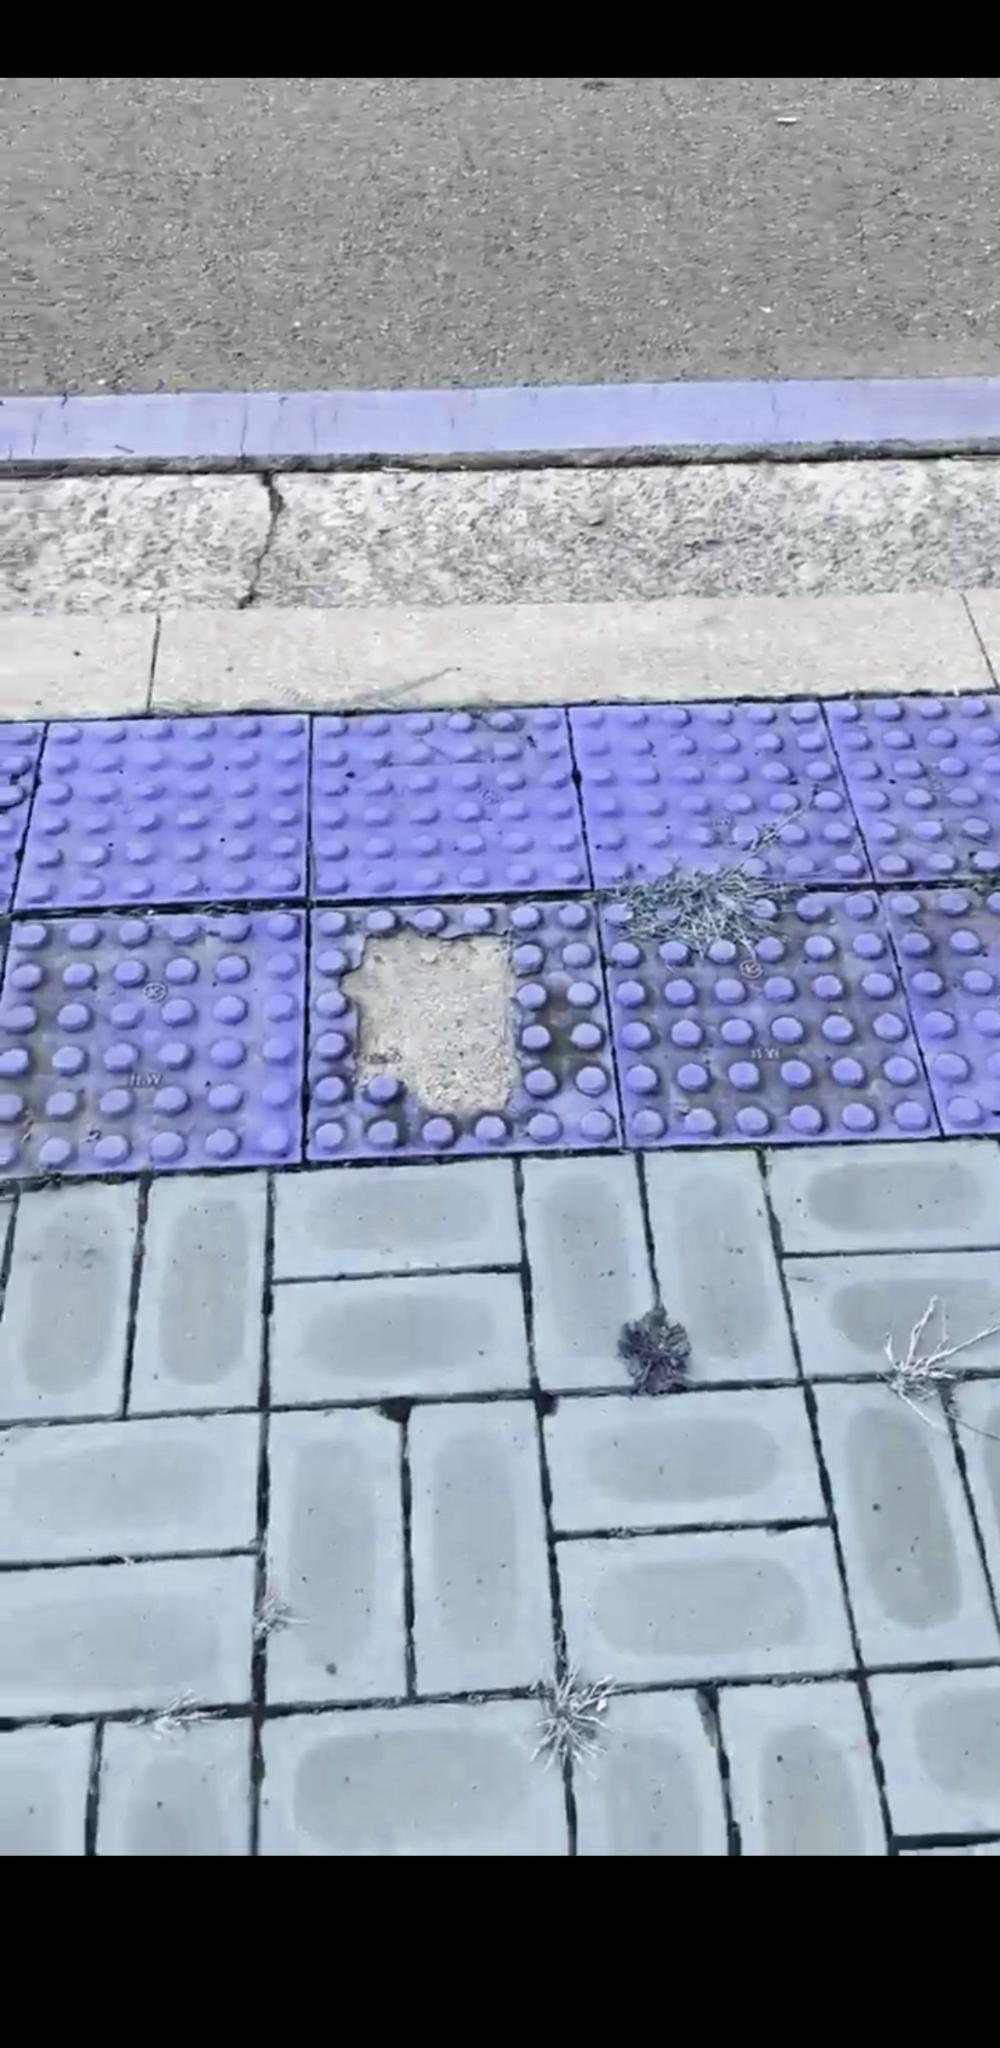Stop block broken: (308, 899, 620, 1157)
Stop block normal: (602, 892, 937, 1144), (14, 716, 309, 909), (570, 701, 868, 887), (312, 709, 590, 899)
